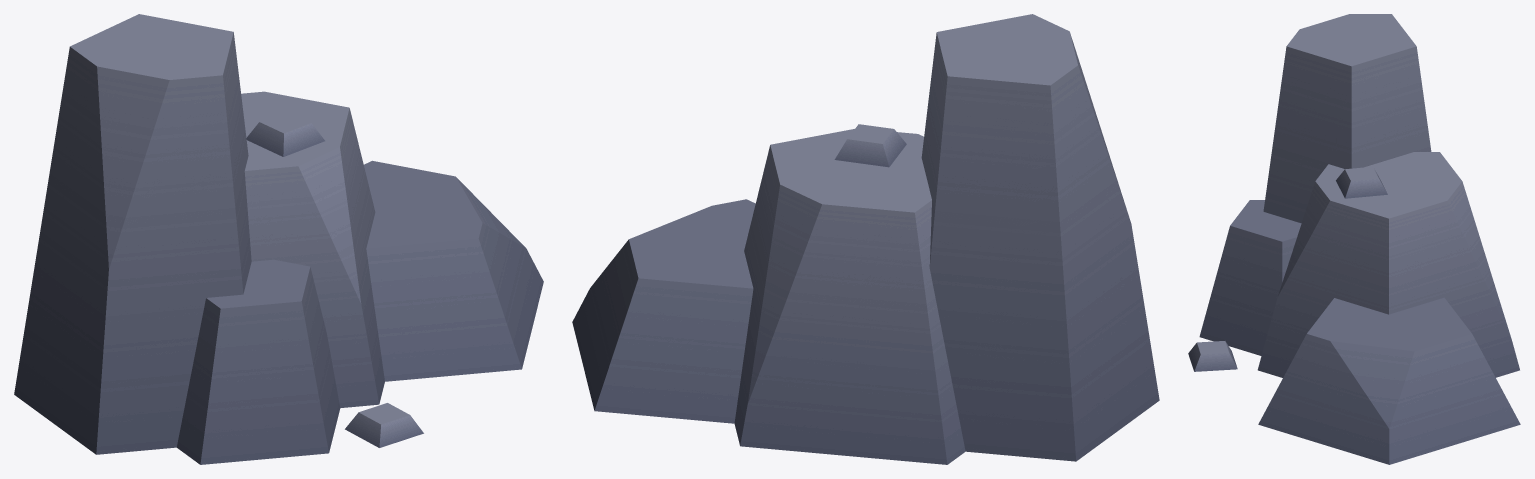
The model's file is rock-c.glb.
3 renders of one model, left to right at view 1: azimuth 30°, elevation 25°; view 2: azimuth 150°, elevation 25°; view 3: azimuth 270°, elevation 25°, orthographic. The views are drawn at different scales.
Parts seen in each view (by area): view 1: rock-c; view 2: rock-c; view 3: rock-c.
Part boxes in pixels (x1=…): rock-c: x1=14, y1=14, x2=543, y2=464; rock-c: x1=572, y1=14, x2=1159, y2=464; rock-c: x1=1188, y1=14, x2=1520, y2=464.
Bounding box in the file's own units: 0.7837 × 0.51 × 0.5659.
1 material, 1 textured.
